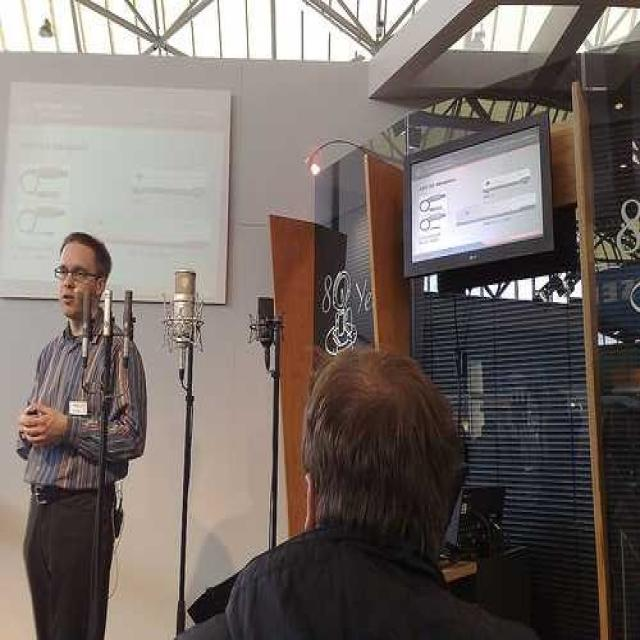microphone: (173, 270, 196, 370), (249, 292, 276, 363), (122, 288, 133, 366), (81, 292, 91, 366), (102, 287, 112, 345)
